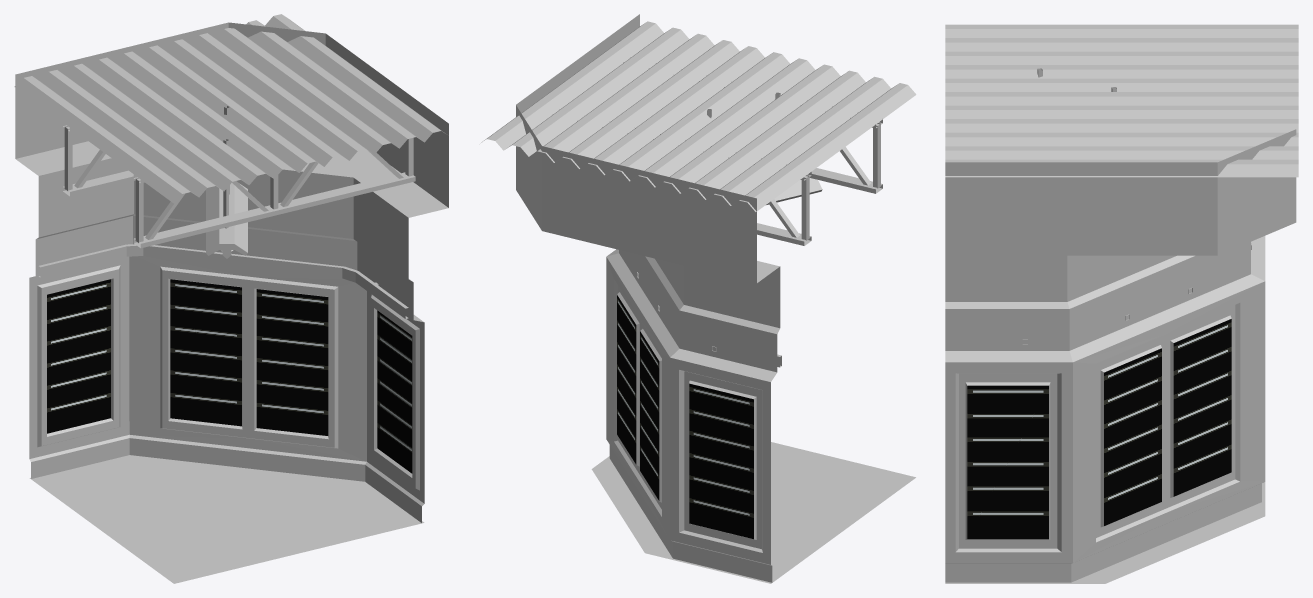
File: Store_Build_Corner_TR_0.dae
The picture shows the model from 3 angles, left to right: view 1: azimuth 30°, elevation 25°; view 2: azimuth 150°, elevation 25°; view 3: azimuth 270°, elevation 25°; orthographic projection. The views are drawn at different scales.
Parts seen in each view (by area): view 1: Store_Corner_TR; view 2: Store_Corner_TR; view 3: Store_Corner_TR.
Part boxes in pixels (<box>): Store_Corner_TR: <box>14,14,448,583</box>; Store_Corner_TR: <box>481,14,916,583</box>; Store_Corner_TR: <box>945,24,1298,583</box>.
Bounding box in the file's own units: 2.2 × 2.21 × 3.
